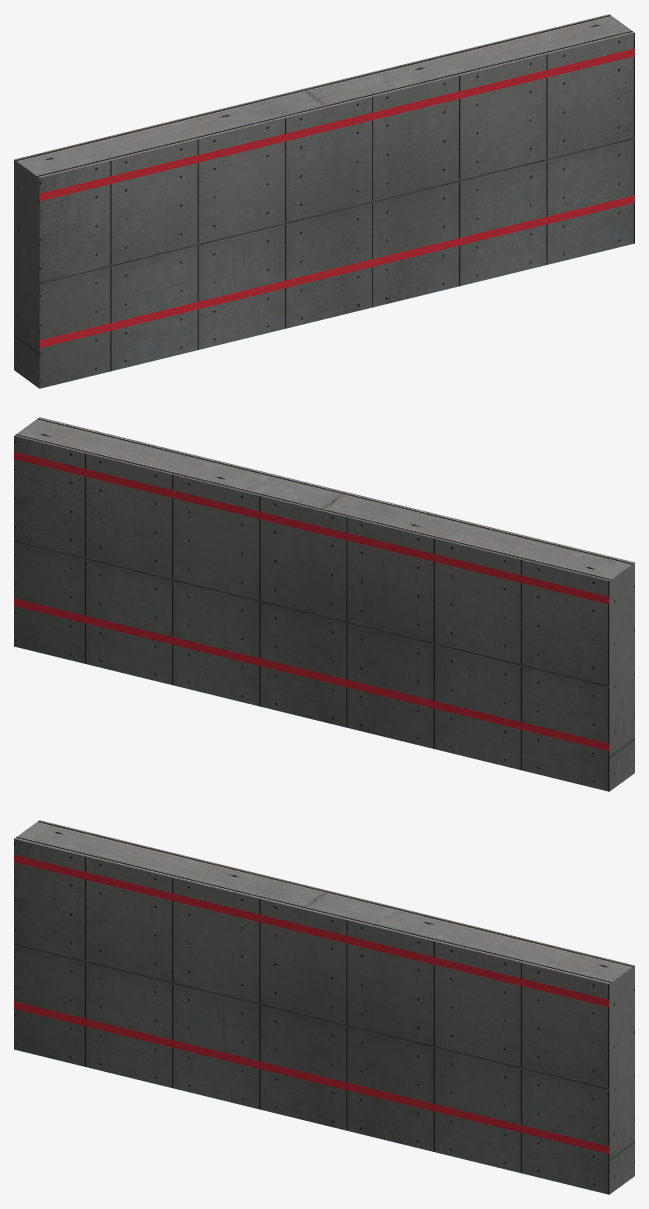
File: wall_1.FBX
The picture shows the model from 3 angles, top to bottom: view 1: azimuth 30°, elevation 25°; view 2: azimuth 150°, elevation 25°; view 3: azimuth 330°, elevation 25°; orthographic projection.
Parts seen in each view (by area): view 1: Box003; view 2: Box003; view 3: Box003.
Boxes of the visible parts, left/top/right/bottom form: Box003: left=14, top=14, right=634, bottom=388; Box003: left=14, top=417, right=634, bottom=791; Box003: left=14, top=820, right=634, bottom=1194.
Size of the model in its own units: 500 by 169 by 37.17.
1 material, 1 textured.
